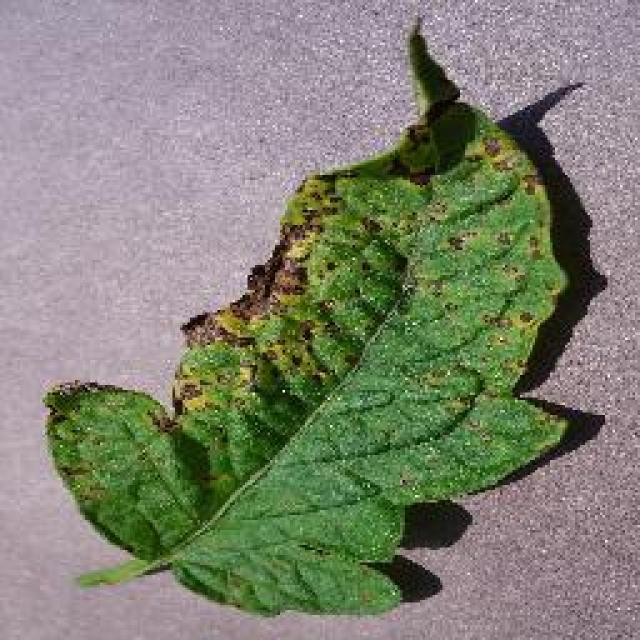Tomato___Septoria_leaf_spot: (42, 32, 568, 610)
